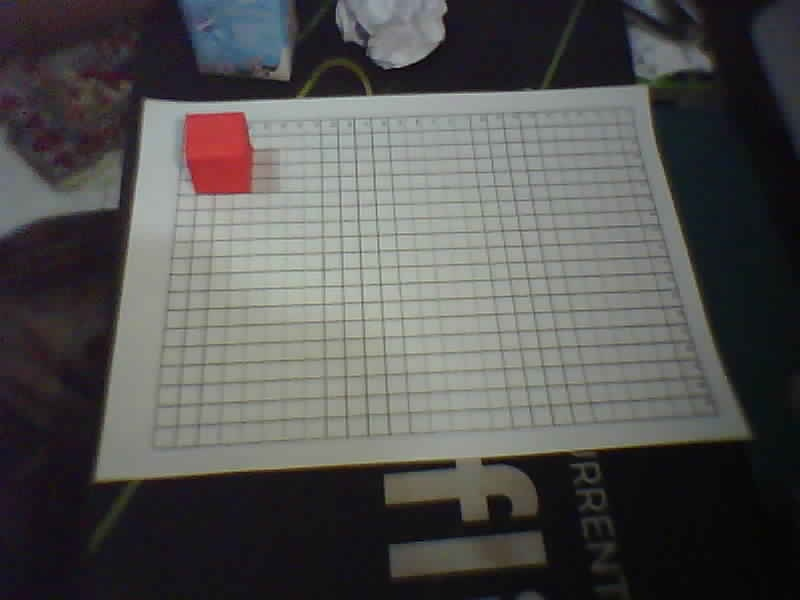LB: (147, 446, 155, 452)
LT: (181, 119, 189, 125)
RB: (713, 414, 721, 420)
RT: (628, 106, 636, 112)
